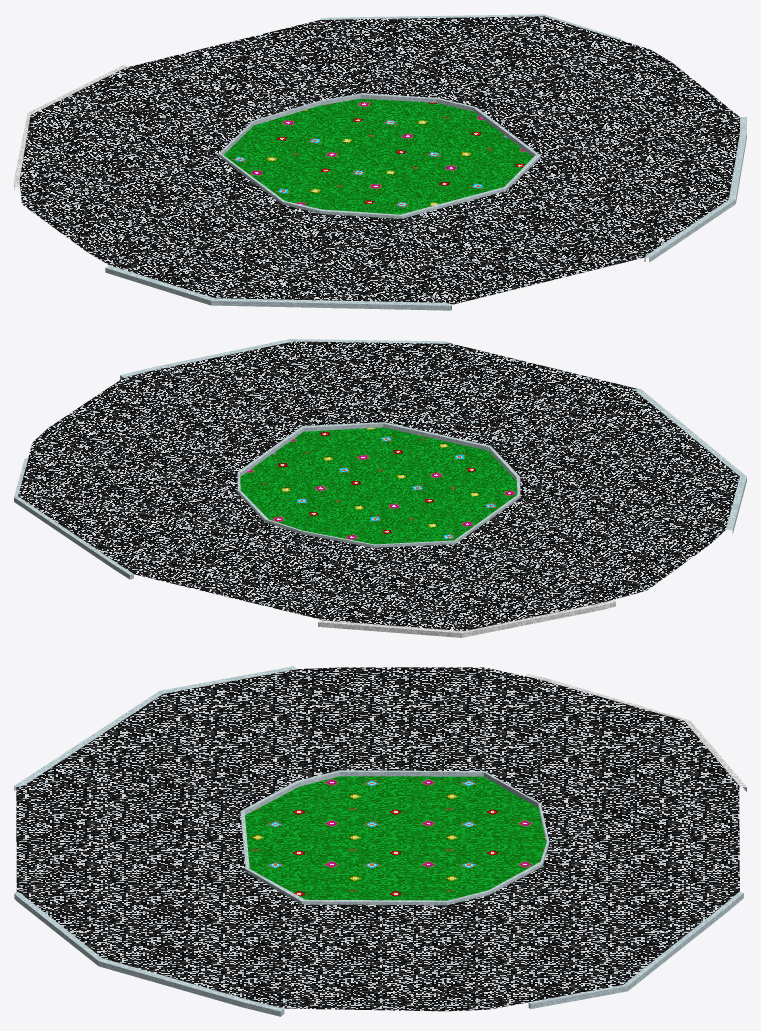
Rendered from BGN-ROUND ABOUT MODULE.fbx.
3 renders of one model, top to bottom at view 1: azimuth 30°, elevation 25°; view 2: azimuth 150°, elevation 25°; view 3: azimuth 270°, elevation 25°, orthographic. The views are drawn at different scales.
Visible parts, largest first — view 1: BGN_ROUND_ABOUT_MODULE; view 2: BGN_ROUND_ABOUT_MODULE; view 3: BGN_ROUND_ABOUT_MODULE.
Boxes of the visible parts, x1,y1,x2,y2 form: BGN_ROUND_ABOUT_MODULE: [14, 14, 746, 310]; BGN_ROUND_ABOUT_MODULE: [14, 339, 746, 637]; BGN_ROUND_ABOUT_MODULE: [14, 666, 746, 1016].
Bounding box in the file's own units: 3376 × 39.24 × 3027.
